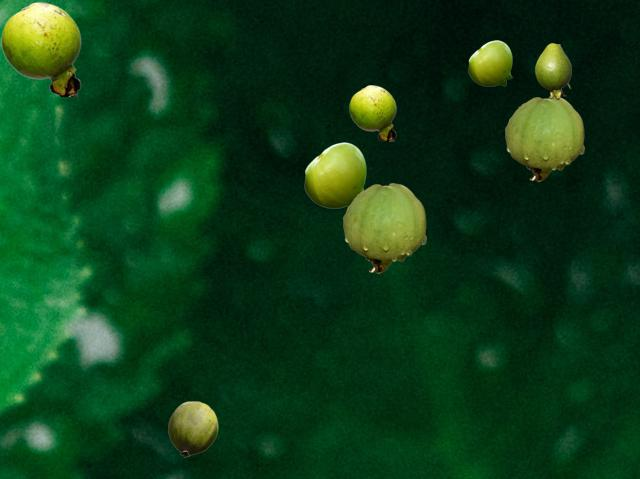guava: (1, 2, 80, 95), (343, 183, 425, 272), (505, 96, 583, 180), (304, 142, 365, 207), (168, 401, 217, 456), (349, 85, 395, 140), (468, 40, 511, 85), (535, 43, 570, 98)
